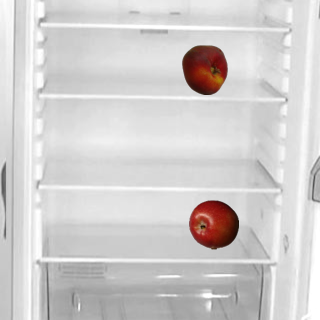Apple Braeburn: (188, 199, 238, 249)
Nectarine Flat: (179, 44, 229, 94)
